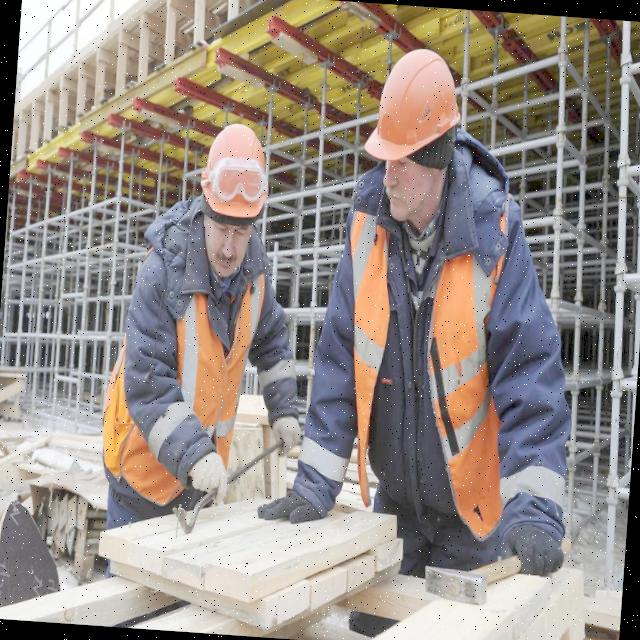Helmet: (334, 181, 527, 529), (363, 48, 466, 187), (197, 120, 273, 244)
